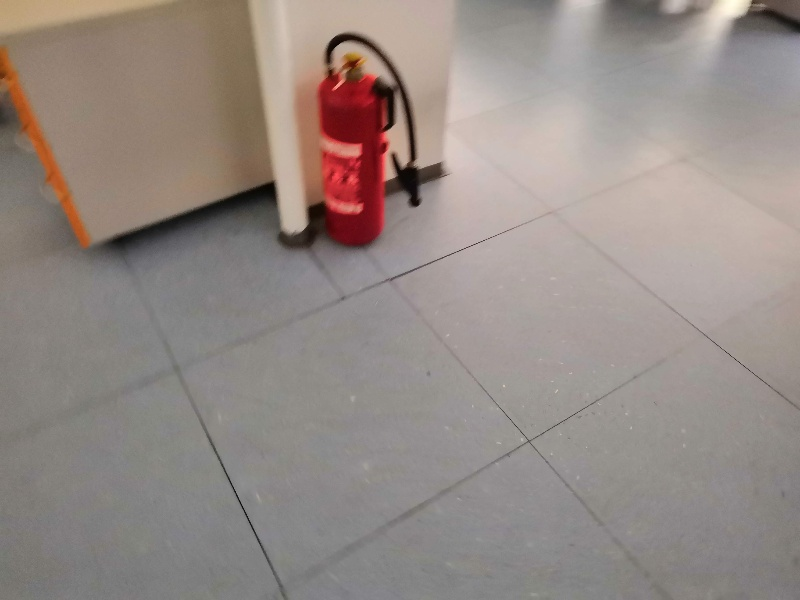vataparat: (318, 32, 422, 247)
